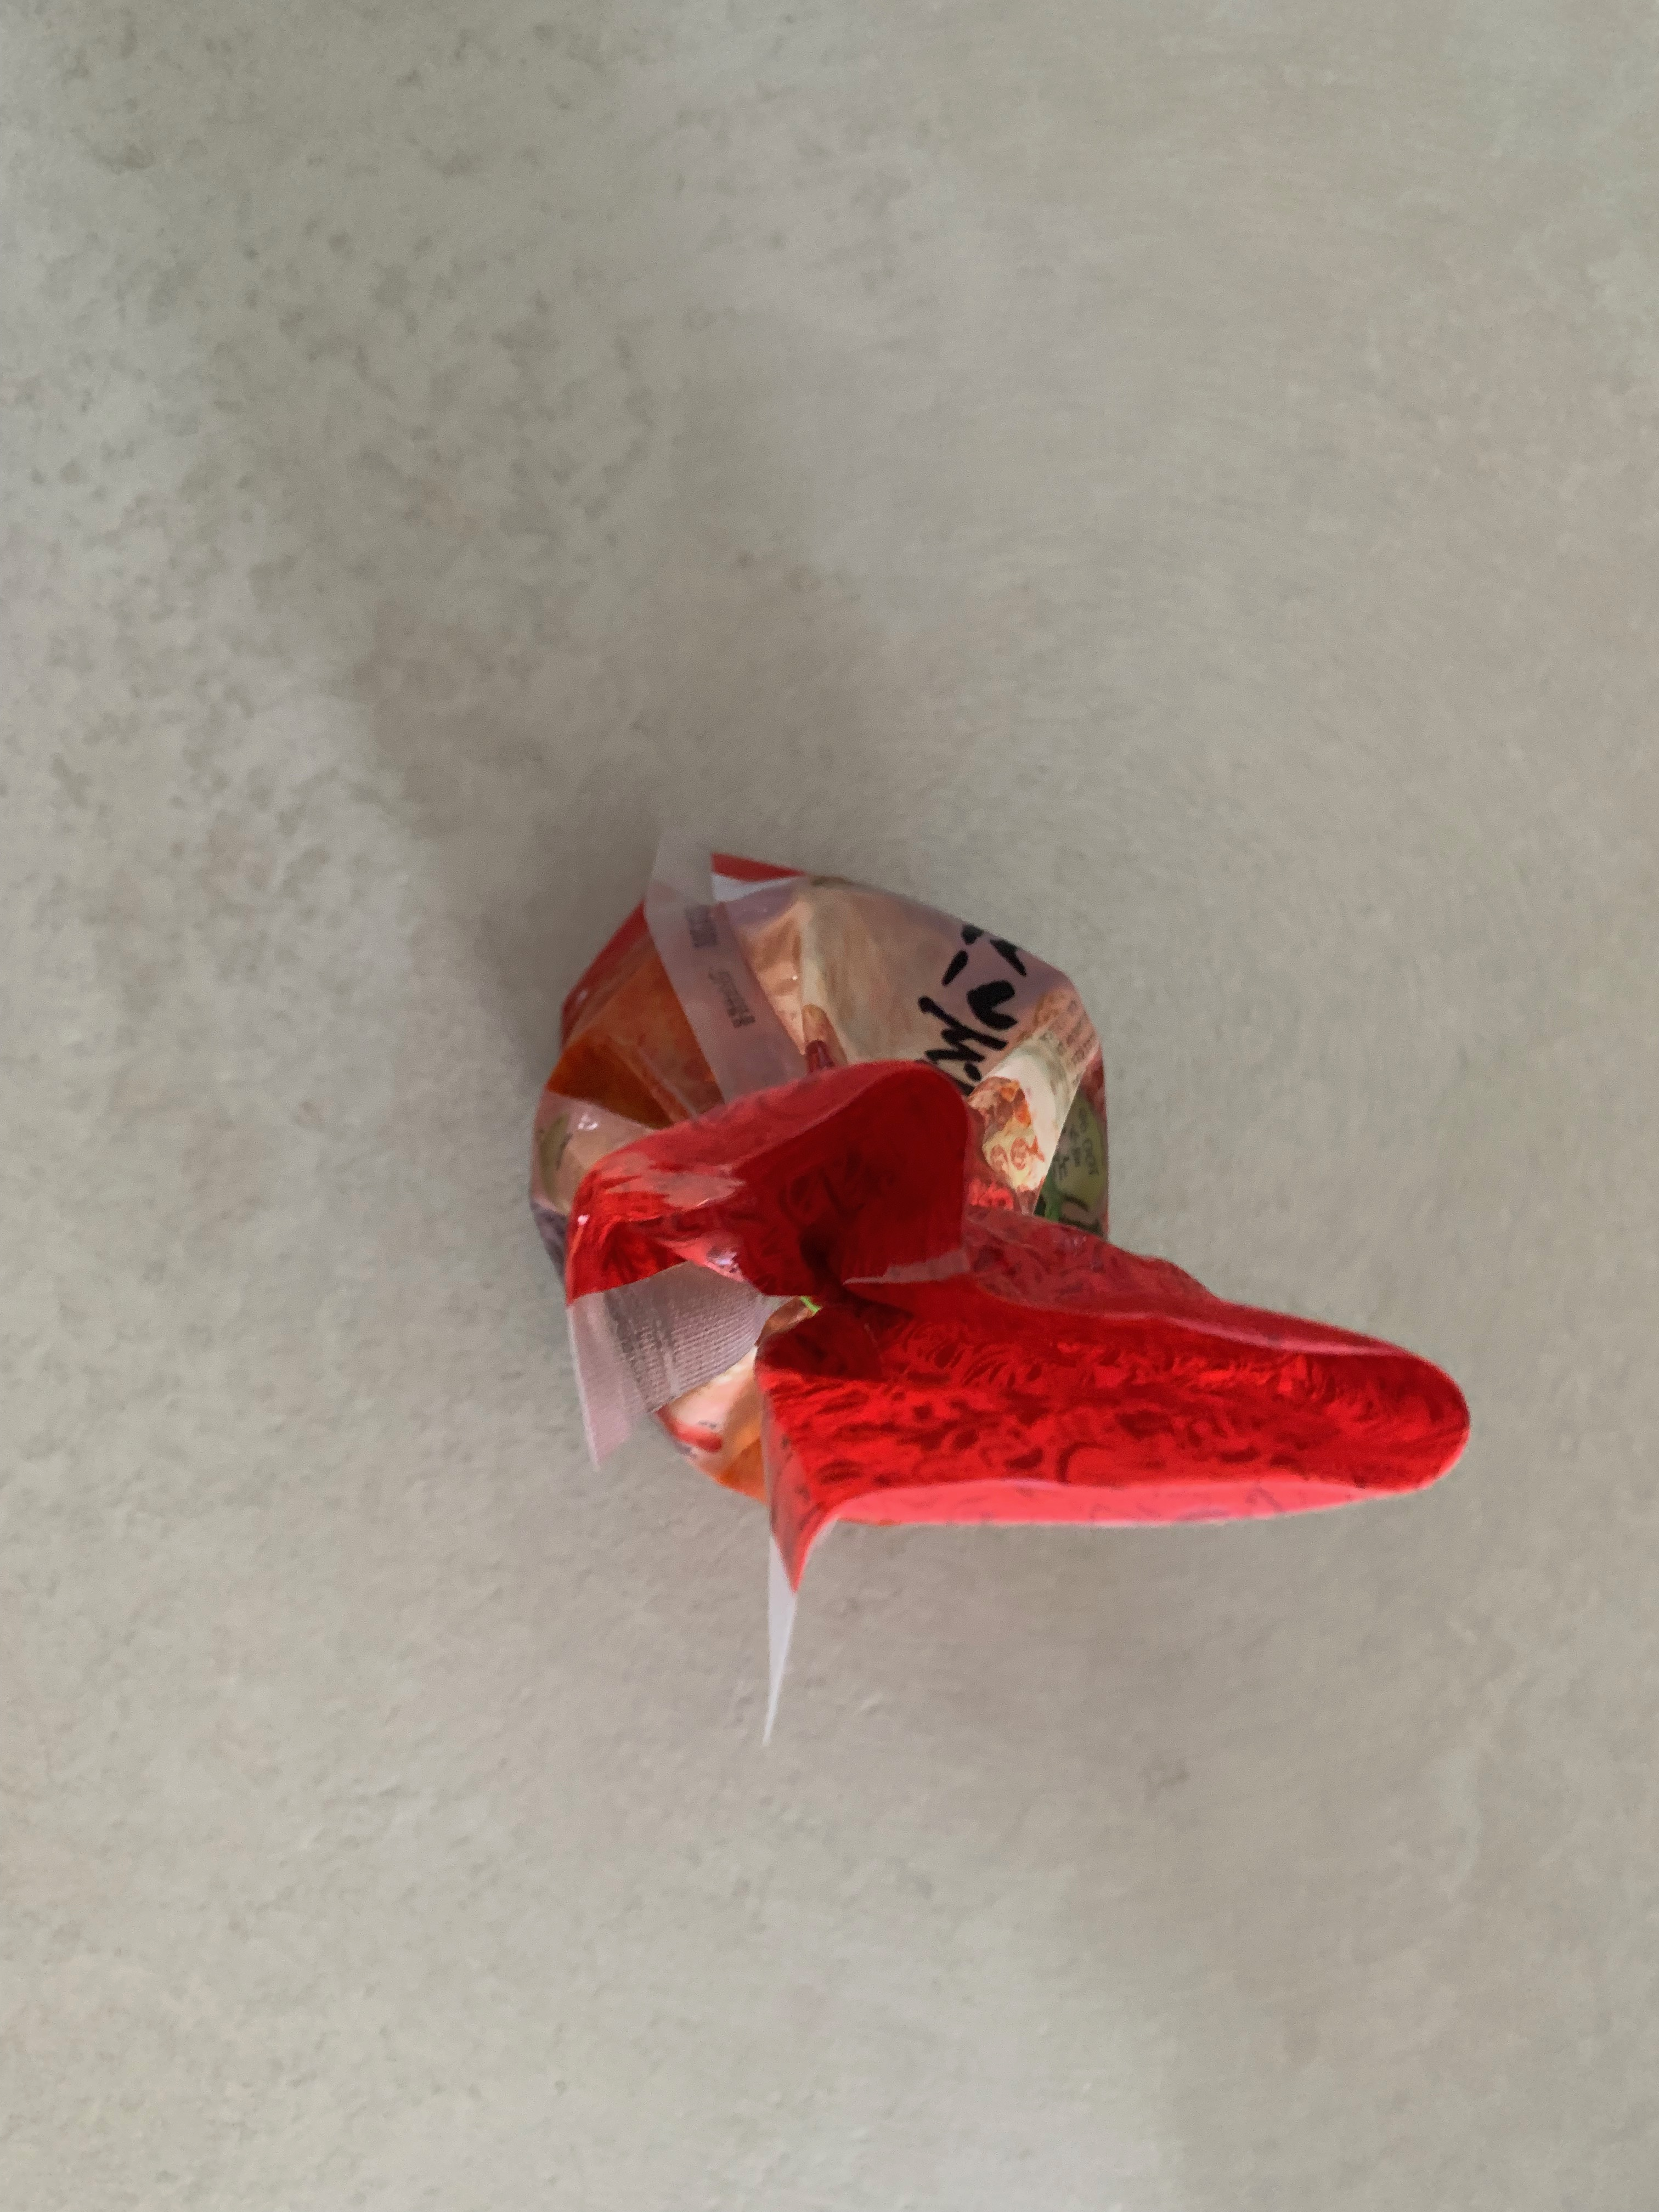kimchi: (530, 853, 1474, 1588)
